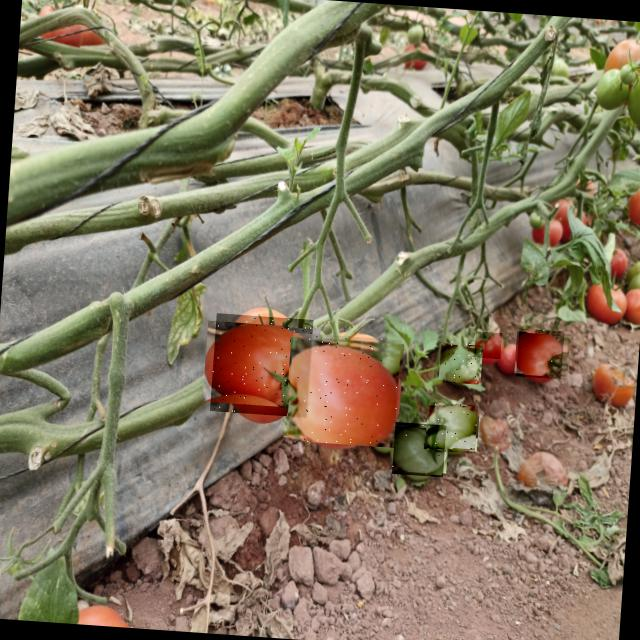Ripe Tomato: (286, 332, 400, 448), (209, 312, 313, 418), (516, 328, 567, 379), (474, 331, 502, 359)
Unripe Tomato: (391, 422, 446, 476), (427, 402, 478, 453), (439, 340, 481, 384)
